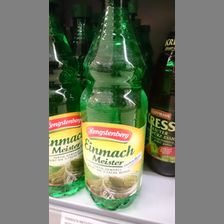vinegar: (78, 1, 150, 211), (49, 8, 85, 200)
